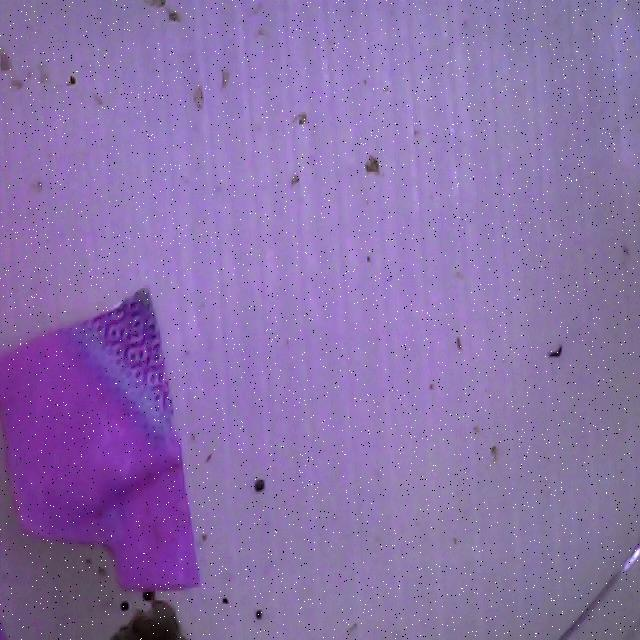fragments: (0, 287, 206, 616)
